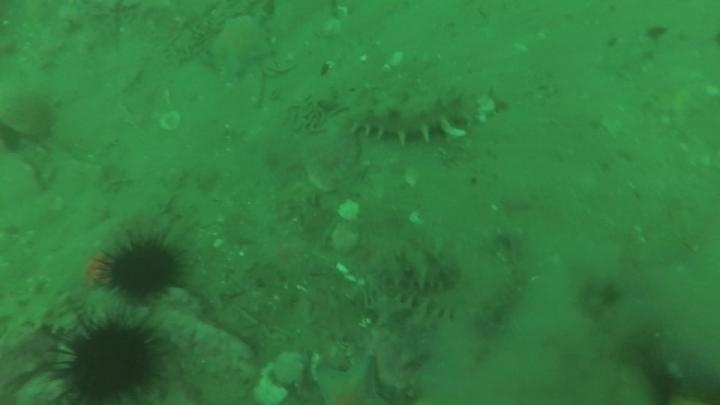echinus: (54, 316, 165, 404), (98, 233, 187, 304)
holothurian: (343, 87, 477, 147), (367, 243, 462, 296), (1, 282, 86, 340), (365, 287, 457, 337)
scallop: (2, 90, 59, 143)
starfish: (208, 15, 275, 78), (311, 361, 390, 405)
